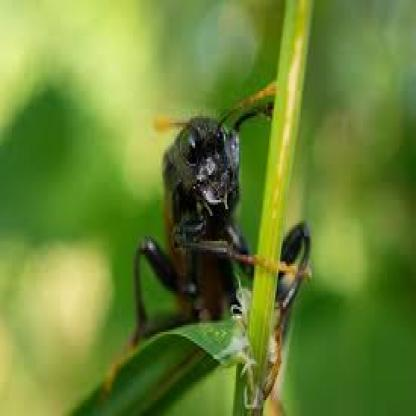sawfly: (125, 66, 313, 382)
